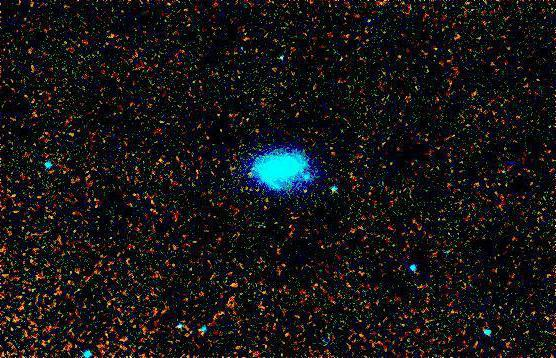star: (237, 162, 267, 192)
